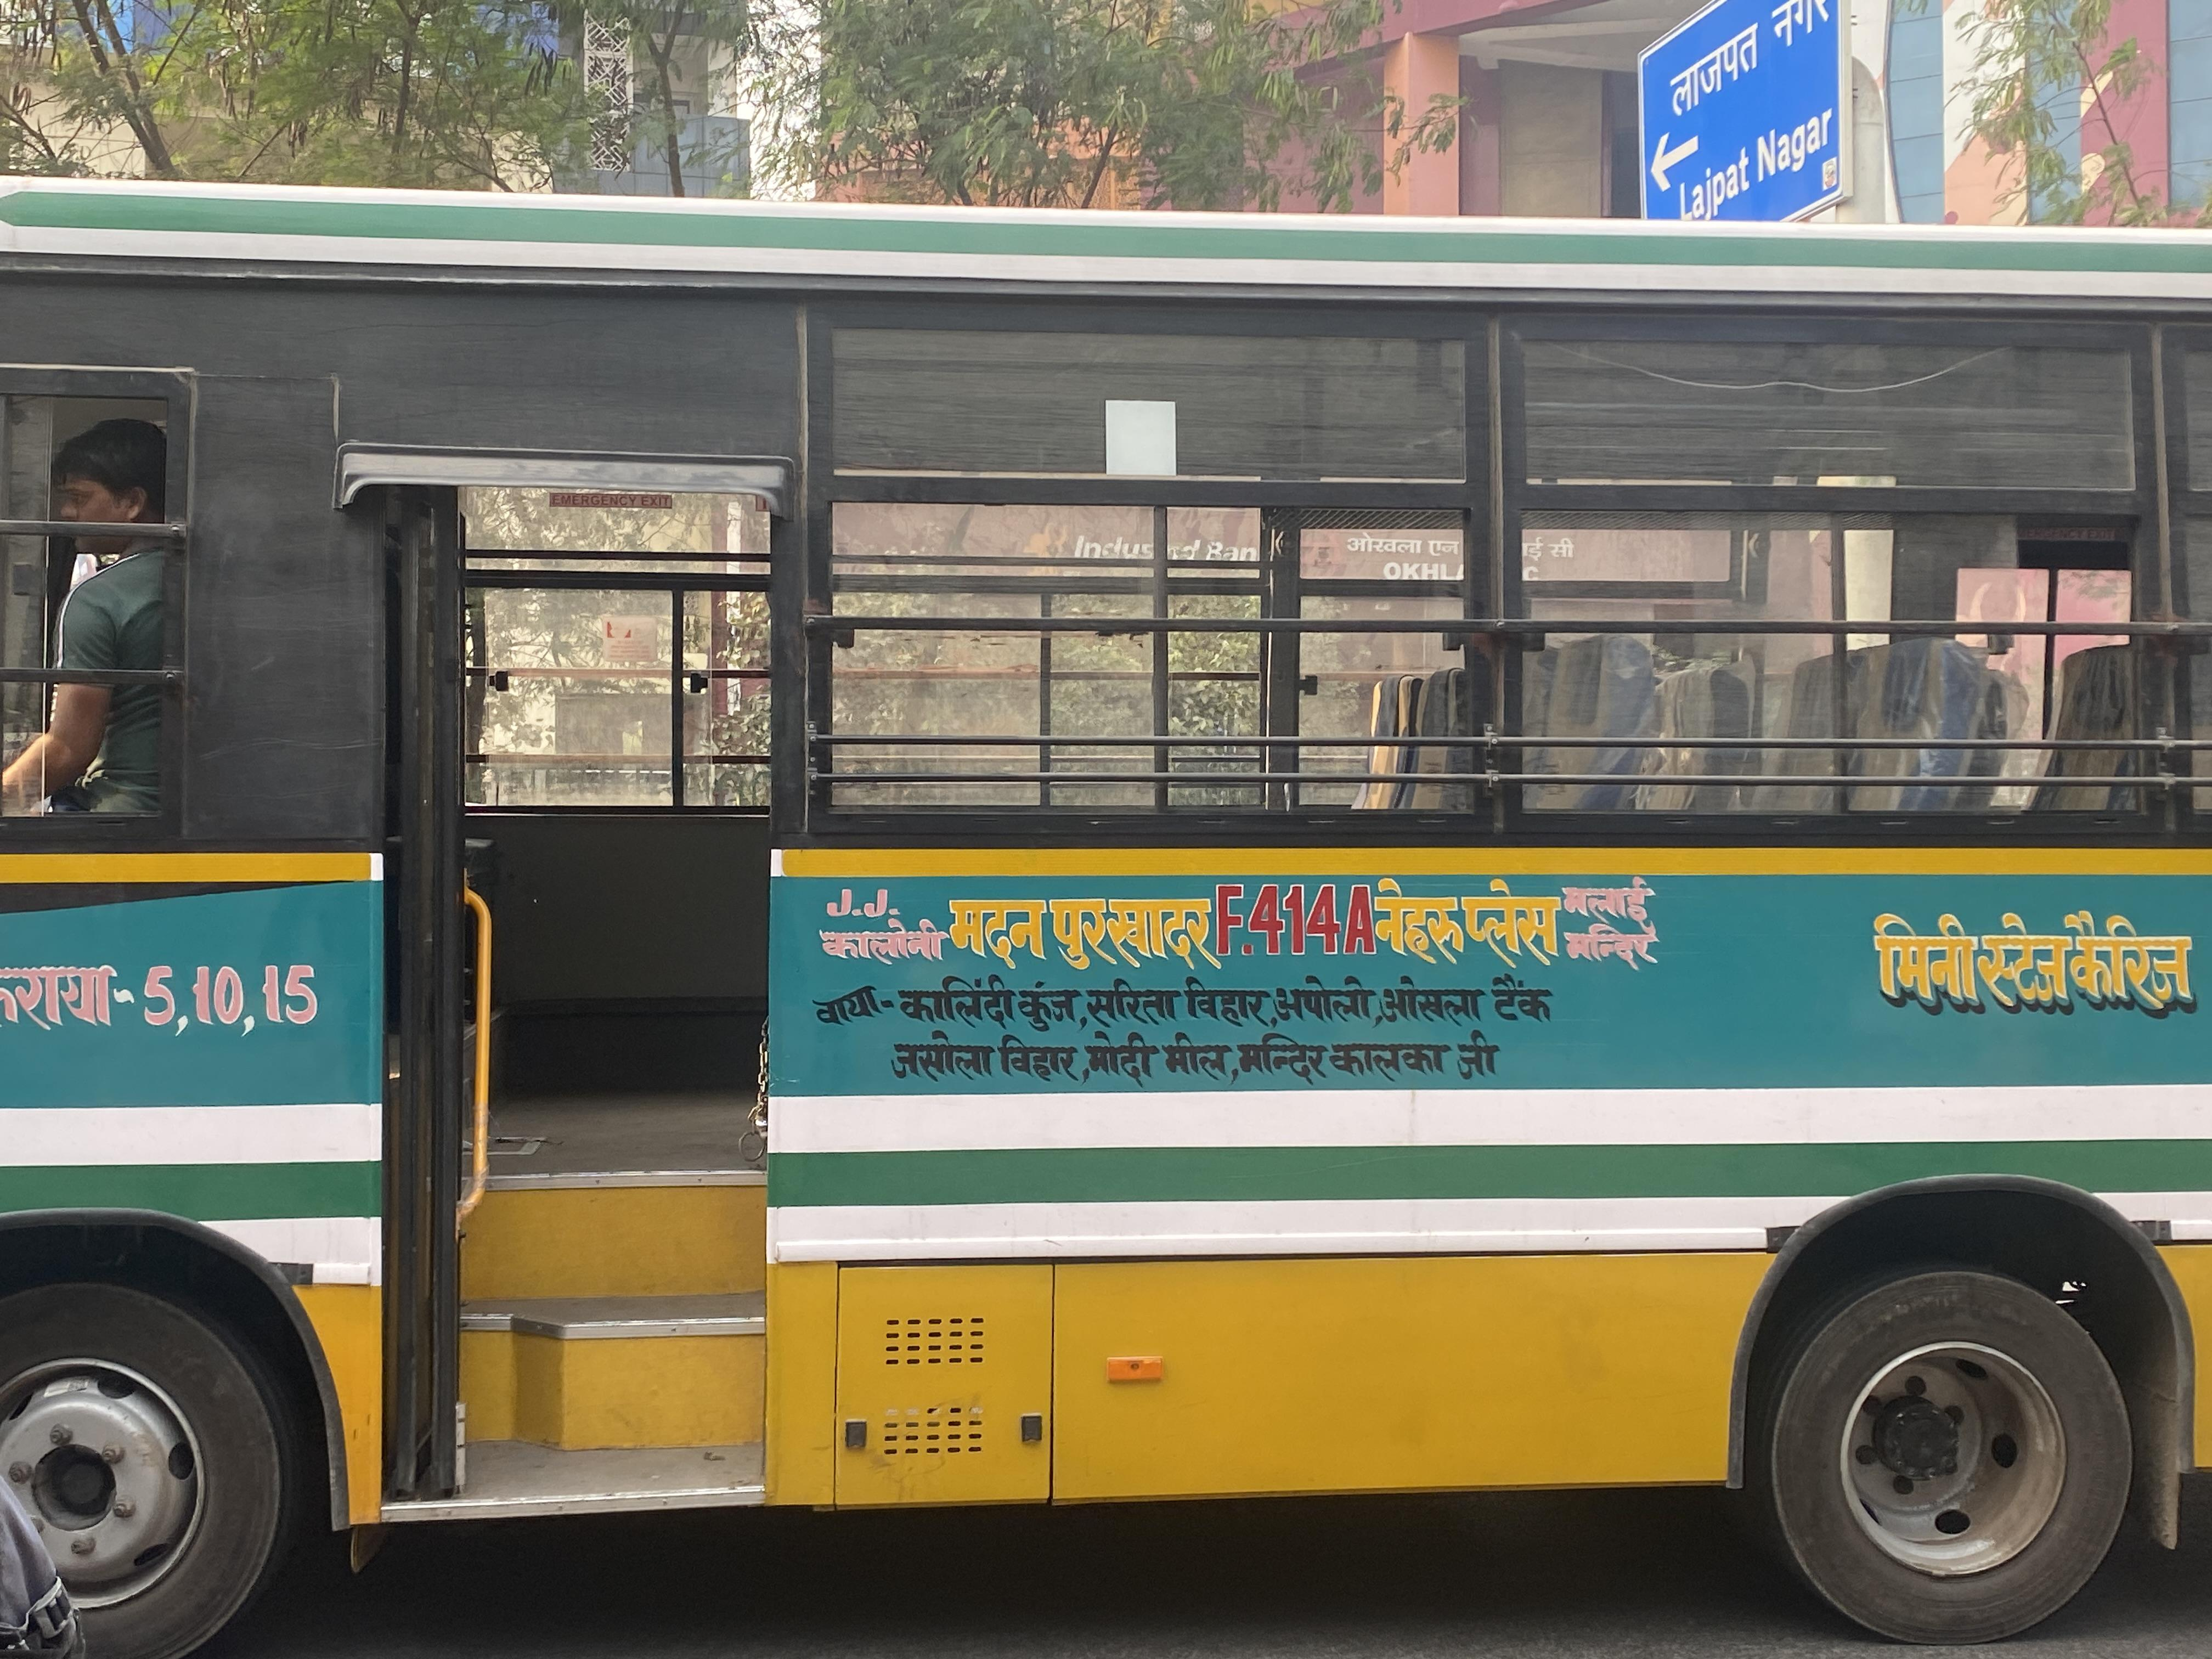Bus: (0, 171, 2212, 1659)
